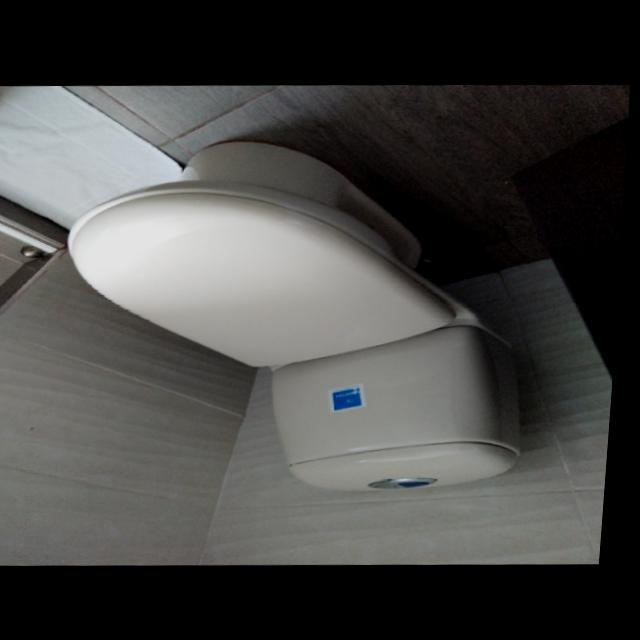toilet: (52, 133, 547, 498)
